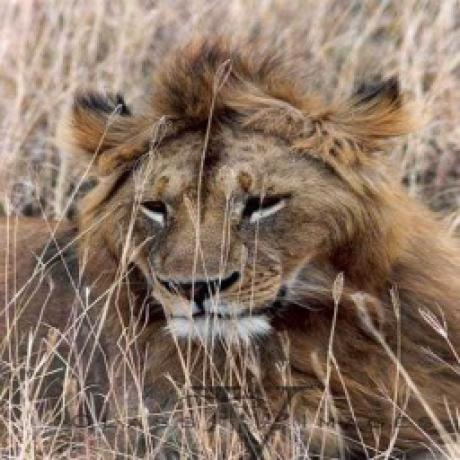Lion: (0, 35, 460, 441)
